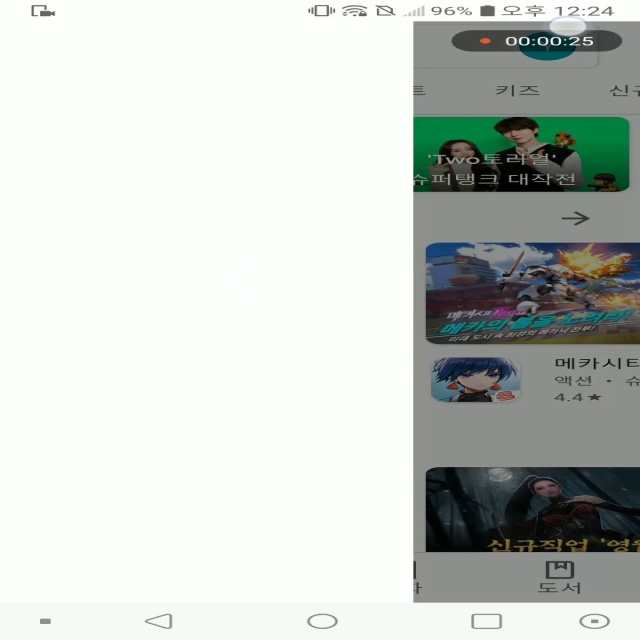Cursor: (547, 15, 592, 37)
